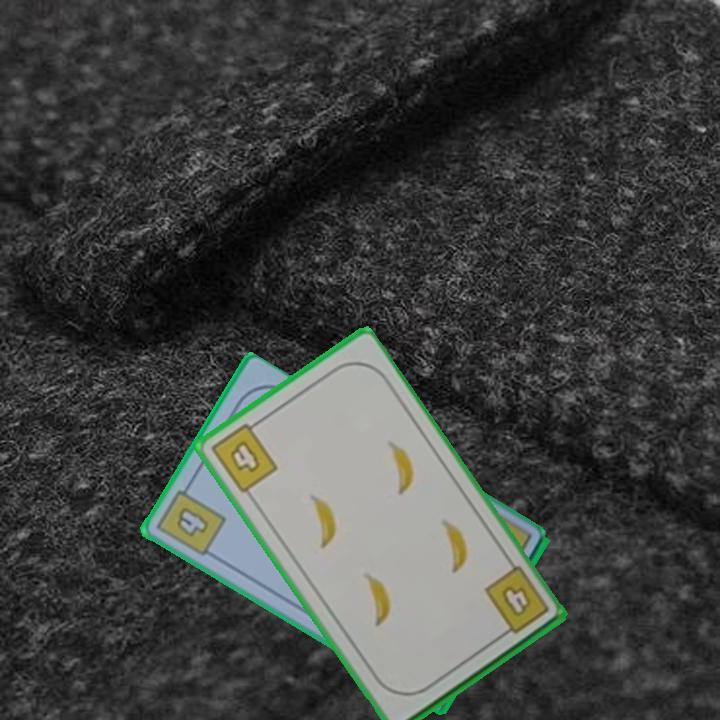4b: (153, 479, 229, 560), (206, 416, 280, 496), (480, 562, 552, 642)
